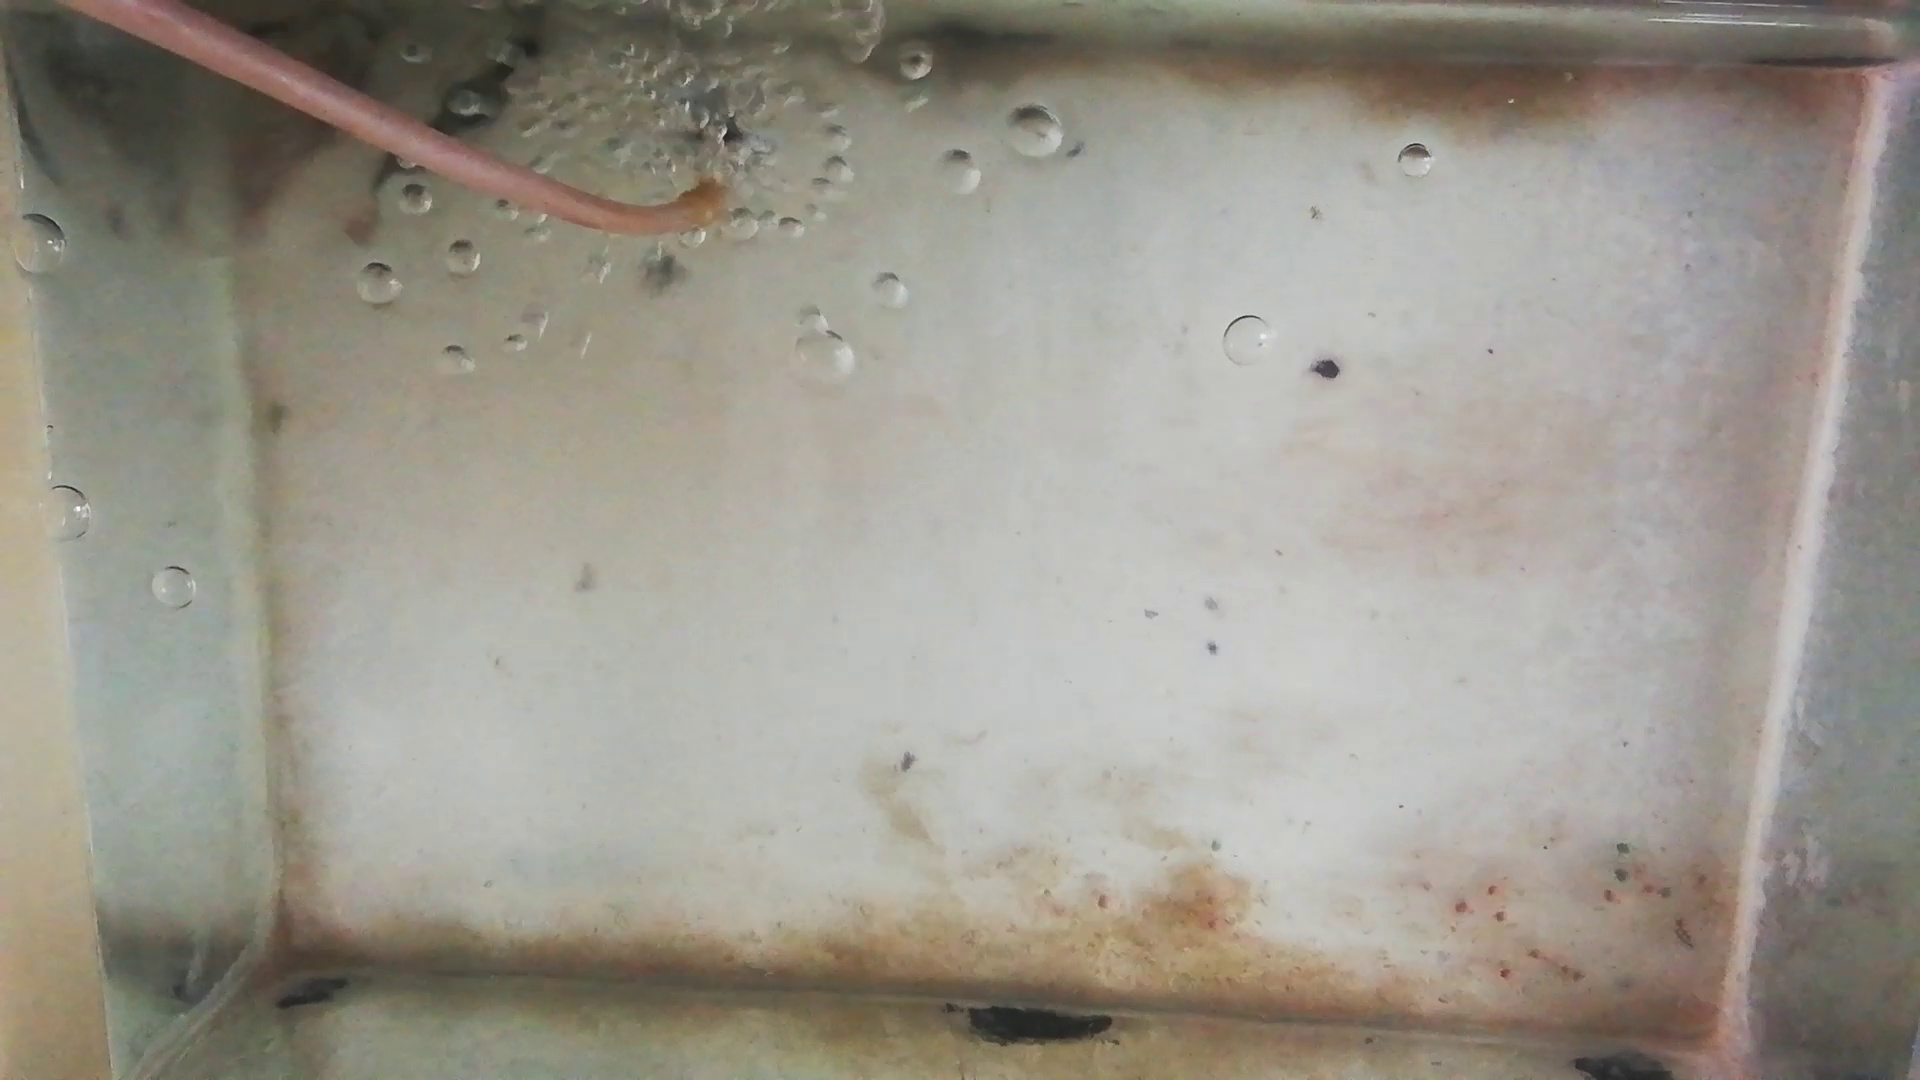fish: (225, 62, 360, 193), (425, 34, 545, 138)
